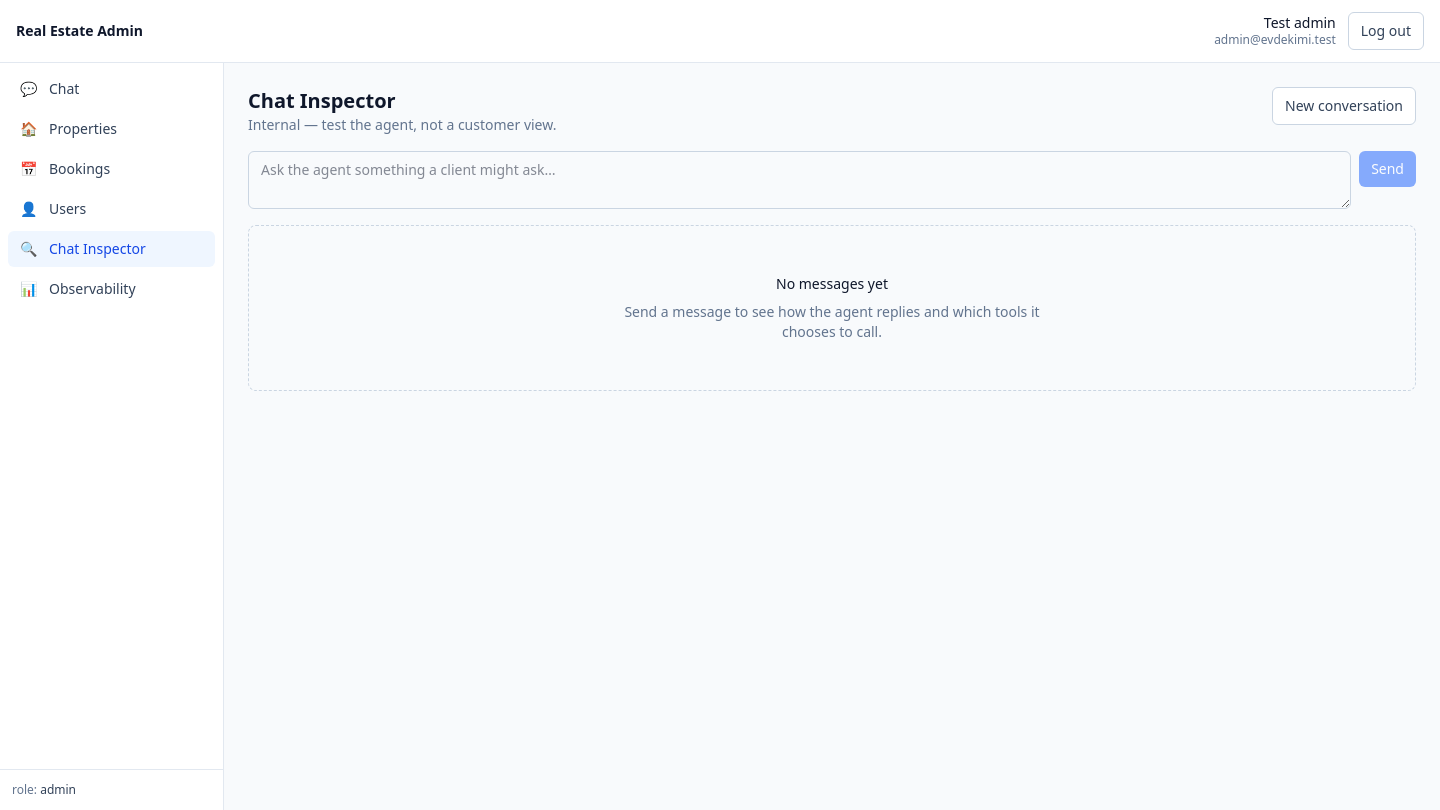
ChatInspectorPage New conversation race › cannot be clicked while a send is in flight, even bypassing pointer-events
The image size is (1440, 810).
Step 1. Type "first message" into the text box named "Message" → x=800, y=180, box [248,151,1351,209]
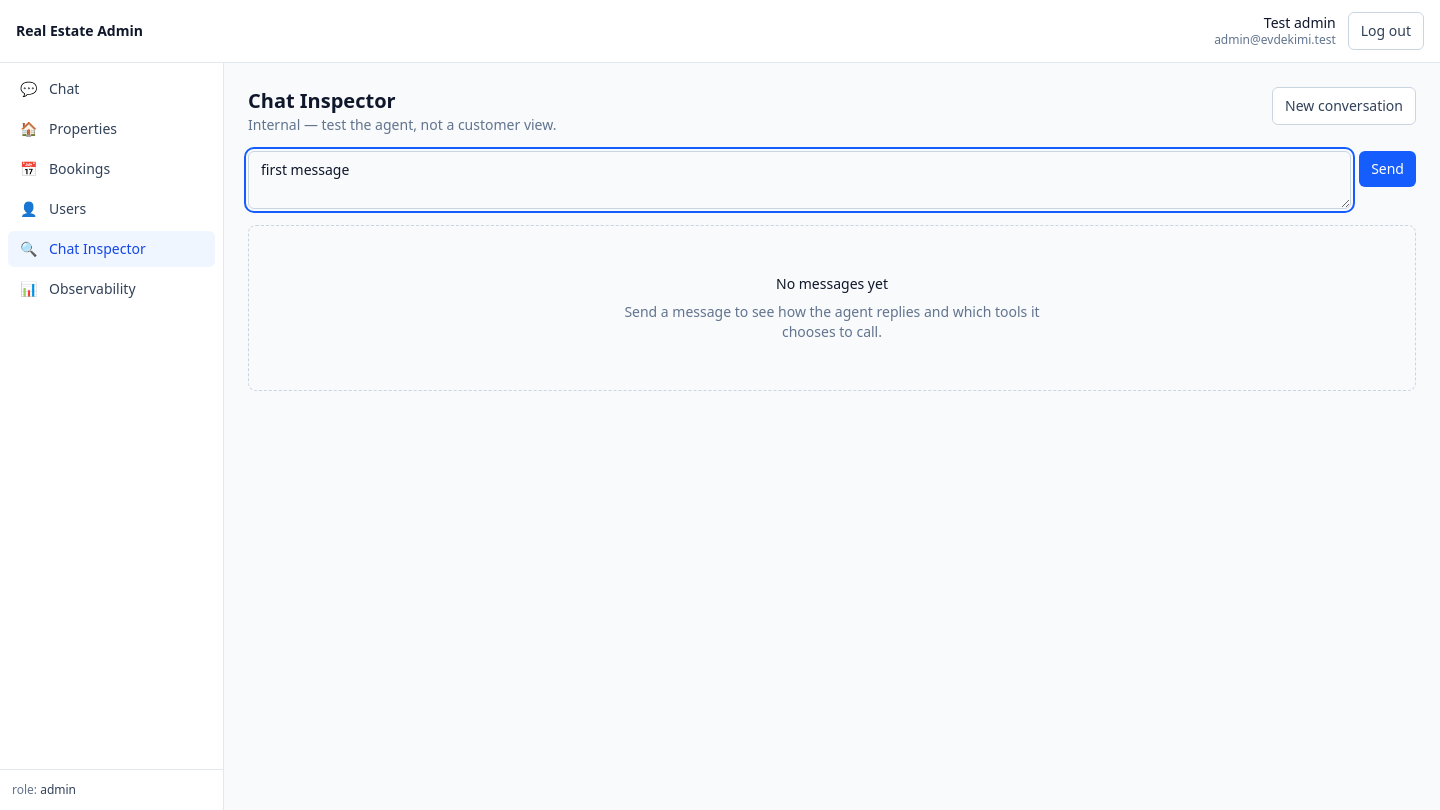
Step 2. Click the button "Send" → x=1388, y=169, box [1359,151,1416,187]
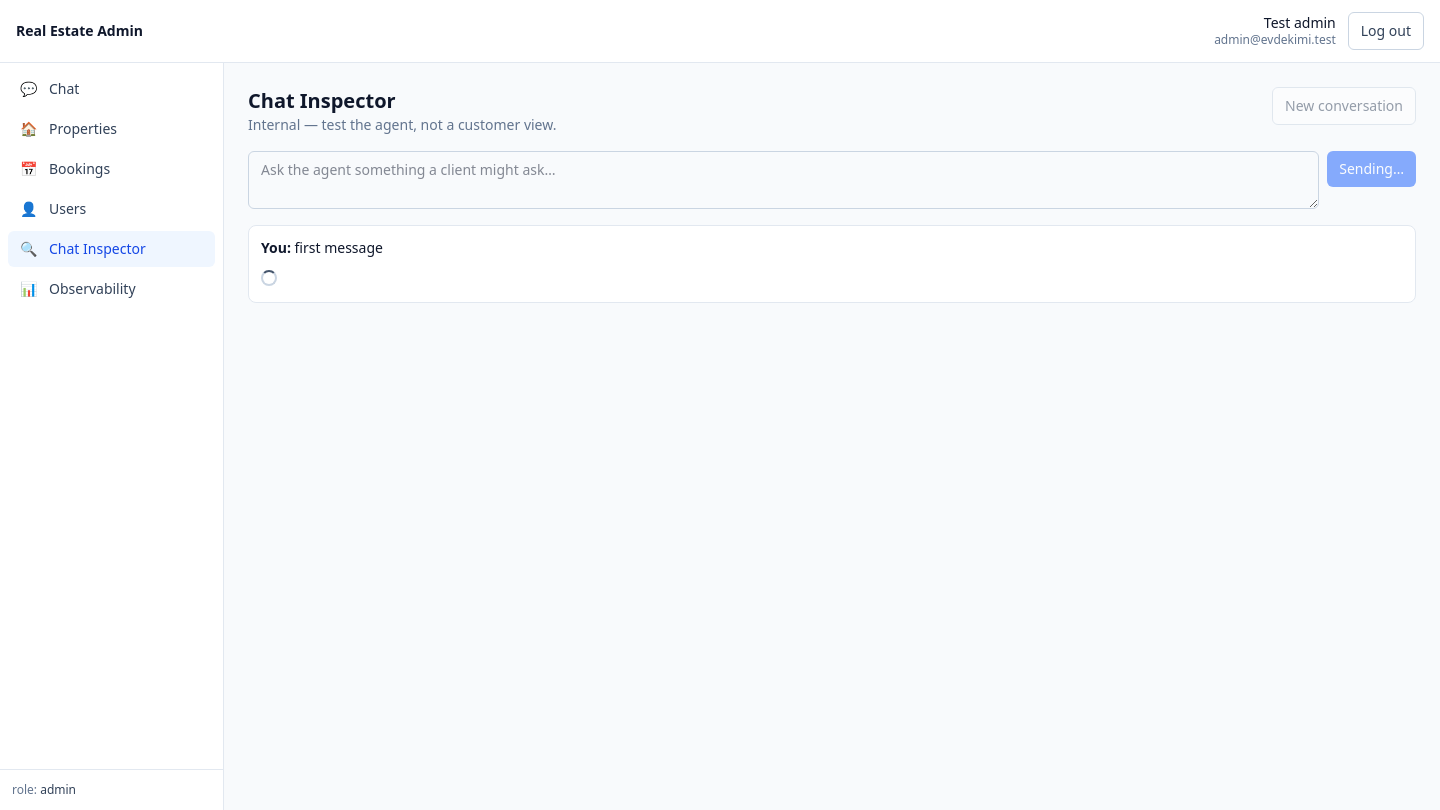
Result: the message with test id "loading-state" is shown at [260,266,432,288]
Result: the button "New conversation" is disabled
Step 3. Click the button "New conversation" → x=1344, y=106, box [1272,87,1416,125]
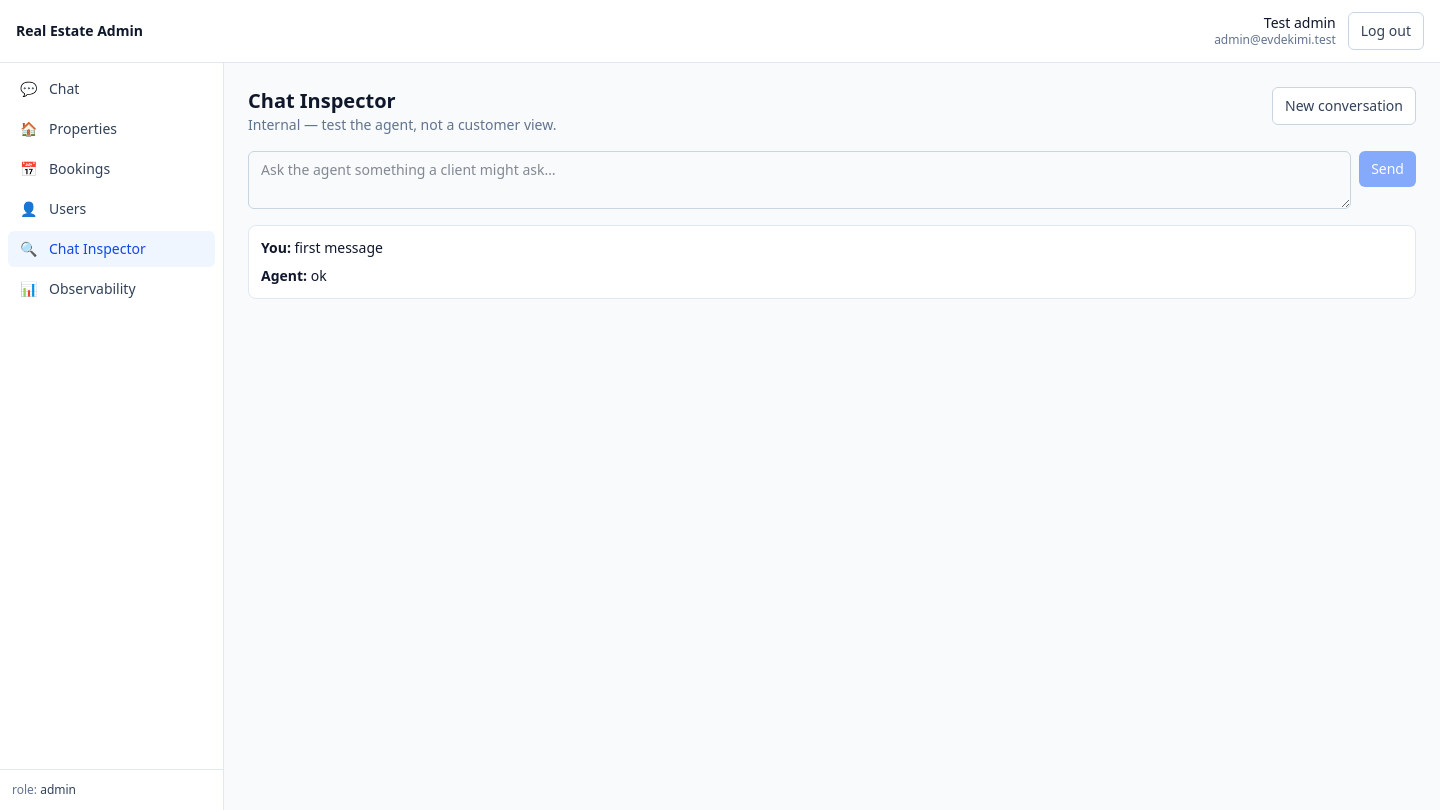
Result: the text "first message" is shown at [294,238,383,257]
Result: the text "ok" is shown at [311,266,327,285]
